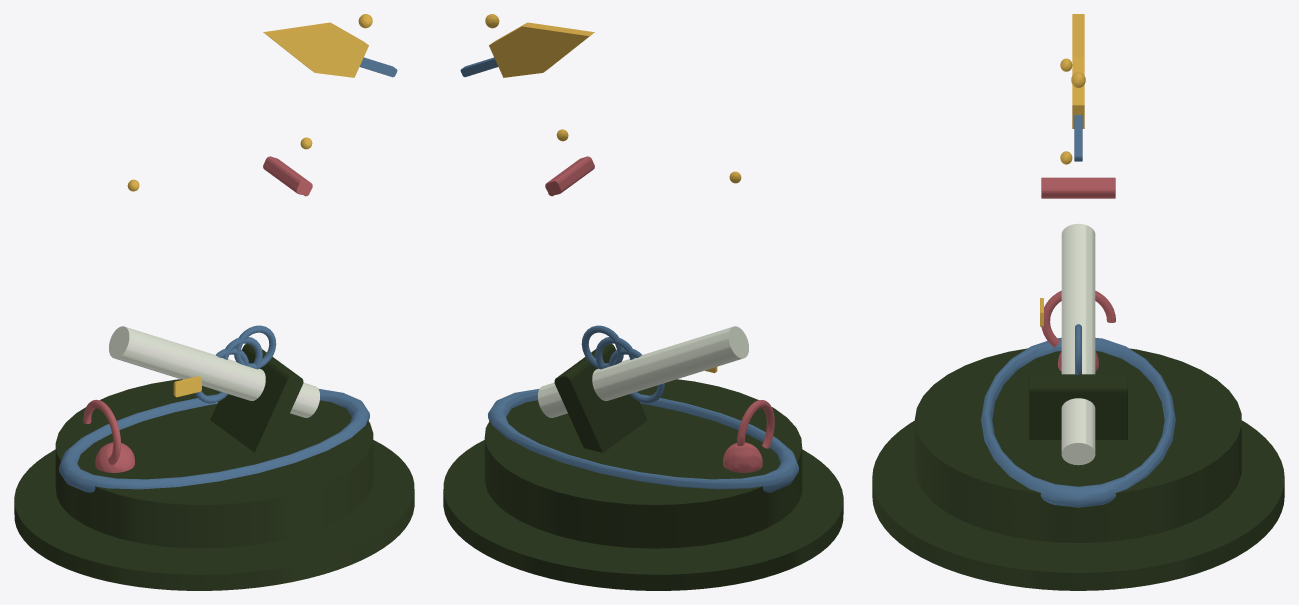
The model's file is 0451_机械图鉴_摩天轮.glb.
The picture shows the model from 3 angles, left to right: view 1: azimuth 30°, elevation 25°; view 2: azimuth 150°, elevation 25°; view 3: azimuth 270°, elevation 25°; orthographic projection. The views are drawn at different scales.
Parts seen in each view (by area): view 1: card_0451; view 2: card_0451; view 3: card_0451.
Part boxes in pixels (x1,y1,x2,y2): card_0451: [14, 14, 414, 590]; card_0451: [443, 14, 843, 590]; card_0451: [872, 14, 1284, 590].
Size of the model in its own units: 0.7964 by 1 by 0.7222.
